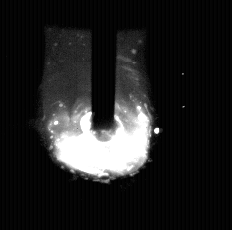arame: (93, 0, 115, 132)
poca: (49, 0, 151, 230)
